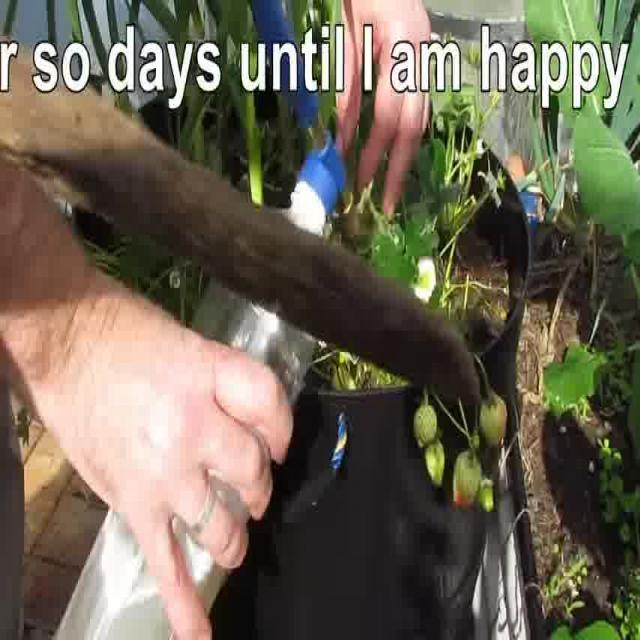Fruta sana: (479, 390, 508, 449), (478, 476, 494, 512)
Moho gris: (452, 436, 480, 506), (413, 404, 437, 448), (425, 438, 445, 487)
